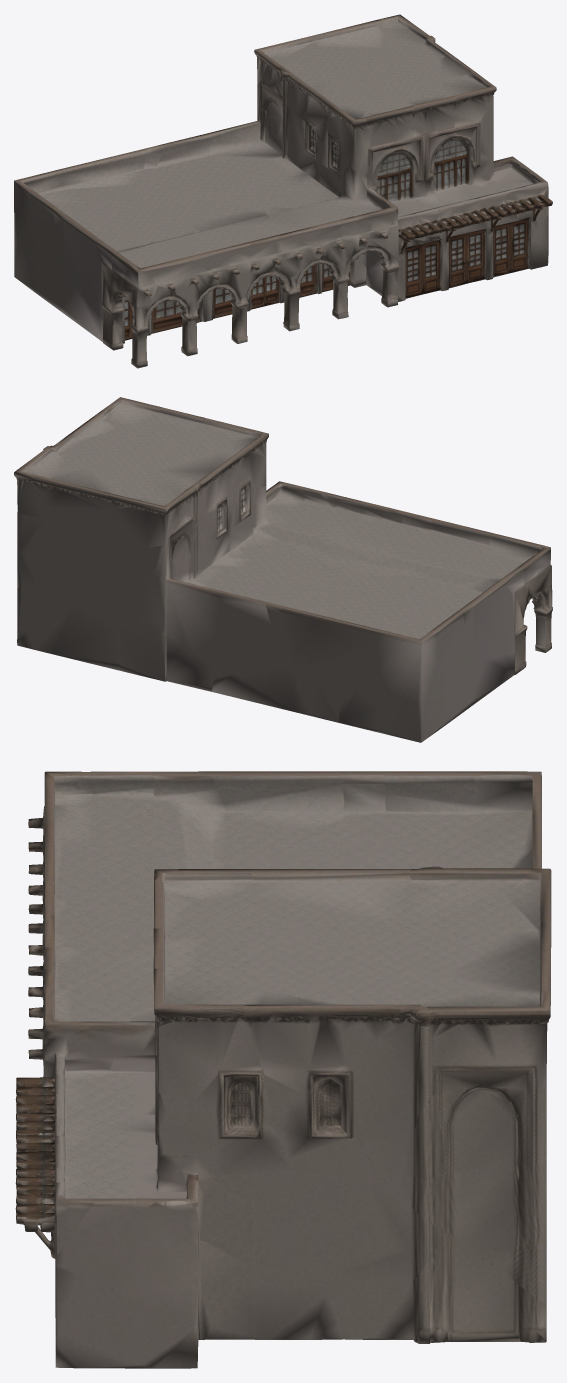
Rendered from arcade_lod1.glb.
3 views of the same model, one above another, from view 1: azimuth 30°, elevation 25°; view 2: azimuth 150°, elevation 25°; view 3: azimuth 270°, elevation 25° (orthographic). The views are drawn at different scales.
Visible parts, largest first — view 1: mesh_node; view 2: mesh_node; view 3: mesh_node.
Boxes of the visible parts, bbox=[...] form: mesh_node: bbox=[14, 14, 552, 368]; mesh_node: bbox=[14, 397, 552, 742]; mesh_node: bbox=[15, 771, 551, 1368].
Bounding box in the file's own units: 1.9 × 0.7327 × 1.06.
1 material, 1 textured.
